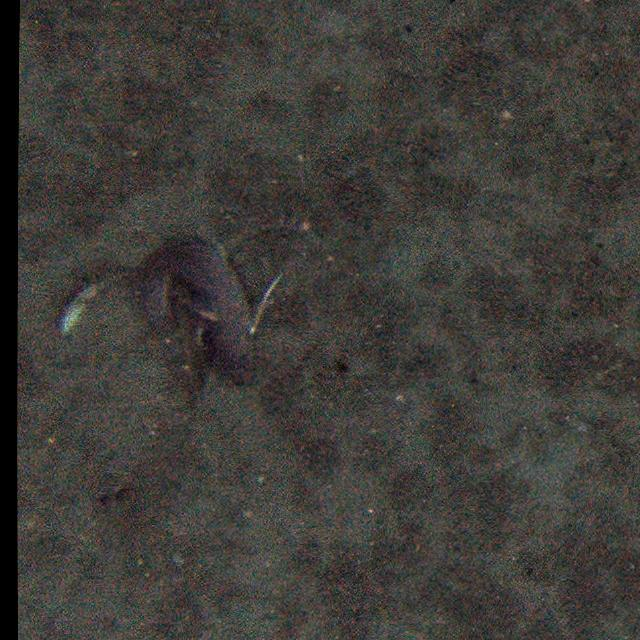roundfish: (127, 225, 280, 392)
